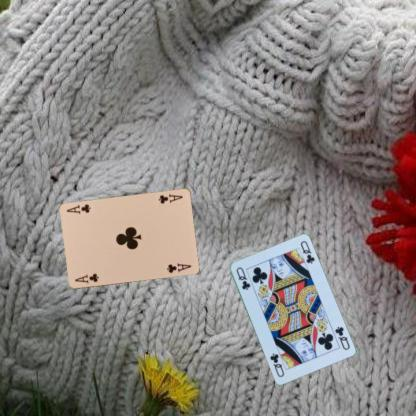Ac: (155, 191, 184, 205), (72, 271, 100, 285)
Qc: (332, 324, 351, 351), (233, 265, 252, 291)
